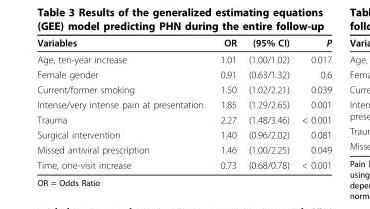table: (36, 36, 331, 170)
table column: (36, 36, 211, 170), (241, 36, 294, 170), (294, 36, 331, 170), (211, 36, 241, 170)
table column header: (36, 36, 331, 50)
table row: (36, 50, 331, 66), (36, 141, 331, 157), (36, 66, 331, 81), (36, 81, 331, 96), (36, 96, 331, 111), (36, 111, 331, 126), (36, 126, 331, 141), (36, 36, 331, 50), (36, 157, 331, 170)
